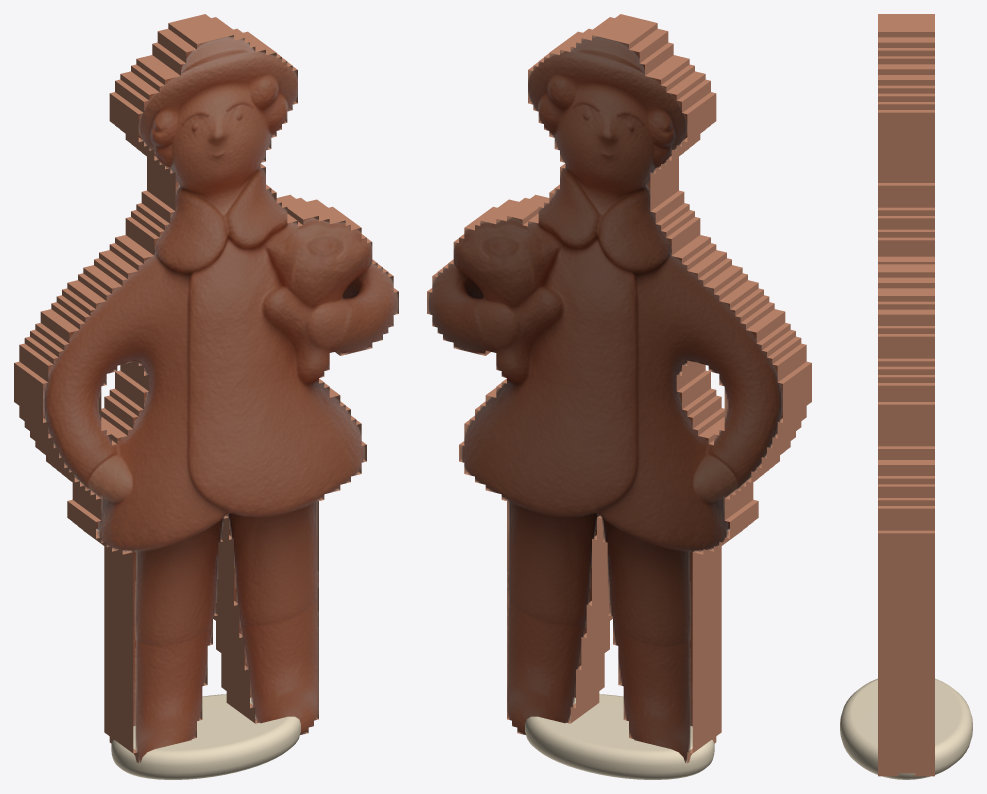
Rendered from ar-clay-man.glb.
The picture shows the model from 3 angles, left to right: view 1: azimuth 30°, elevation 25°; view 2: azimuth 150°, elevation 25°; view 3: azimuth 270°, elevation 25°; orthographic projection.
Parts seen in each view (by area): view 1: ToyArtworkSilhouette, SmallRoundedDisplayFoot; view 2: ToyArtworkSilhouette, SmallRoundedDisplayFoot; view 3: ToyArtworkSilhouette, SmallRoundedDisplayFoot.
Part boxes in pixels (<box>): ToyArtworkSilhouette: <box>14,14,398,763</box>; SmallRoundedDisplayFoot: <box>111,694,300,779</box>; ToyArtworkSilhouette: <box>427,14,811,763</box>; SmallRoundedDisplayFoot: <box>525,694,714,779</box>; ToyArtworkSilhouette: <box>878,14,934,776</box>; SmallRoundedDisplayFoot: <box>840,678,972,779</box>.
Bounding box in the file's own units: 0.104 × 0.202 × 0.034.
3 materials, 1 textured.
